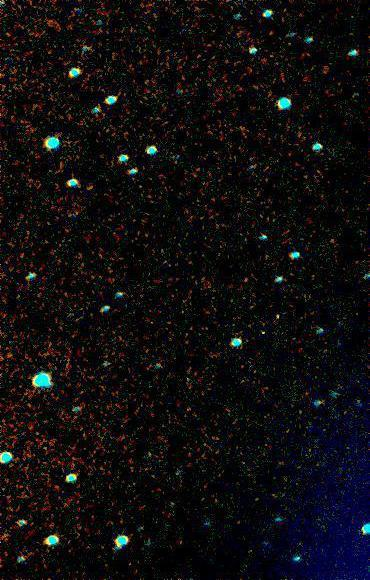star: (261, 302, 291, 332)
